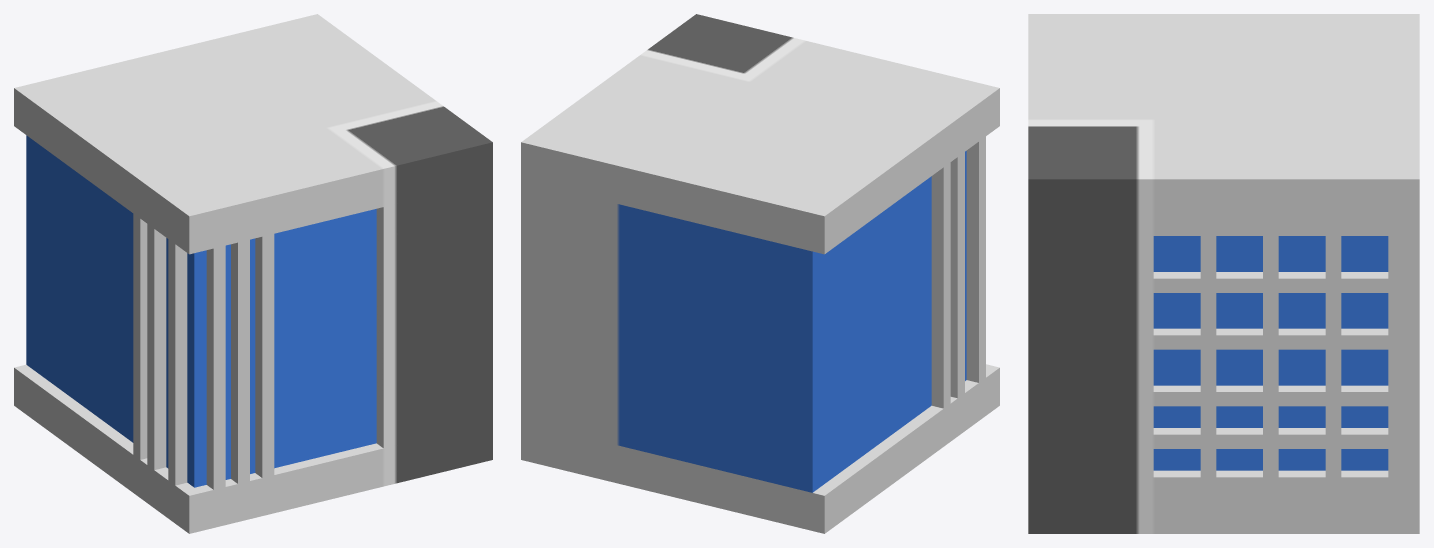
The model's file is fourteenthModel.fbx.
3 views of the same model, side by side, from view 1: azimuth 30°, elevation 25°; view 2: azimuth 150°, elevation 25°; view 3: azimuth 270°, elevation 25° (orthographic). The views are drawn at different scales.
Visible parts, largest first — view 1: Box; view 2: Box; view 3: Box.
Part boxes in pixels (box(x1,y1,x2,y2)): Box: box(14, 14, 492, 533); Box: box(521, 14, 999, 533); Box: box(1028, 14, 1419, 533).
Bounding box in the file's own units: 25 × 25 × 25.
1 material, 1 textured.
